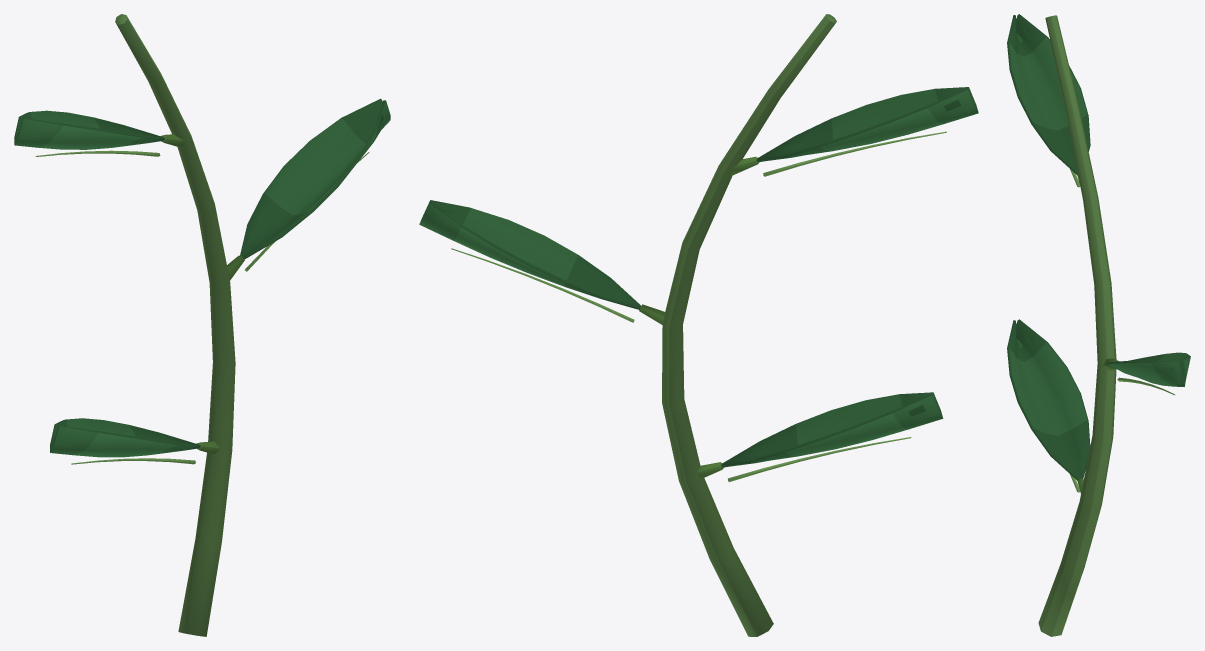
File: garden-rose-leaves-stem-3.glb
3 views of the same model, side by side, from view 1: azimuth 30°, elevation 25°; view 2: azimuth 150°, elevation 25°; view 3: azimuth 270°, elevation 25° (orthographic). The views are drawn at different scales.
Parts seen in each view (by area): view 1: rose-leaves-stem-3; view 2: rose-leaves-stem-3; view 3: rose-leaves-stem-3.
Boxes of the visible parts, x1,y1,x2,y2 form: rose-leaves-stem-3: (14, 14, 390, 636); rose-leaves-stem-3: (419, 14, 978, 636); rose-leaves-stem-3: (1007, 14, 1190, 636).
Size of the model in its own units: 0.2571 by 0.3352 by 0.0953.
